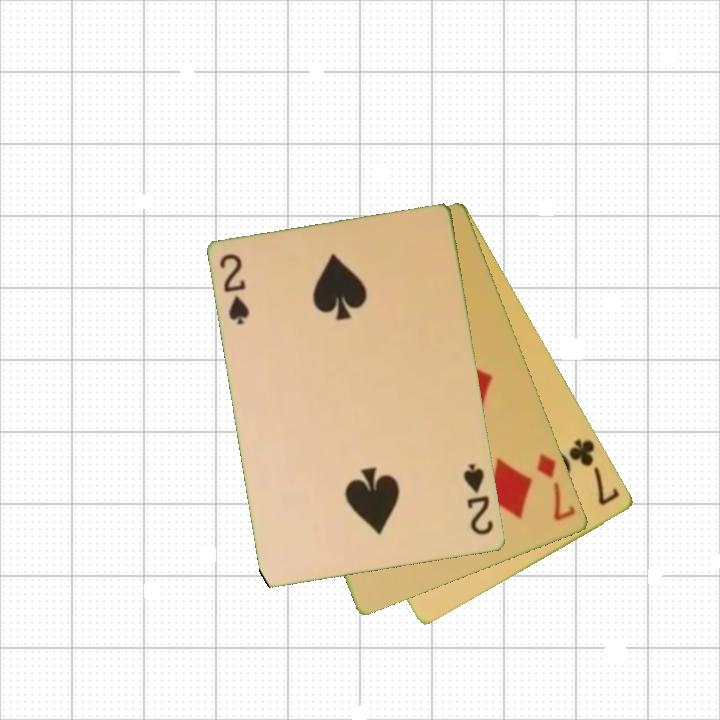2s: (460, 460, 497, 539), (216, 250, 253, 328)
7c: (565, 435, 623, 509)
7d: (534, 449, 580, 524)
